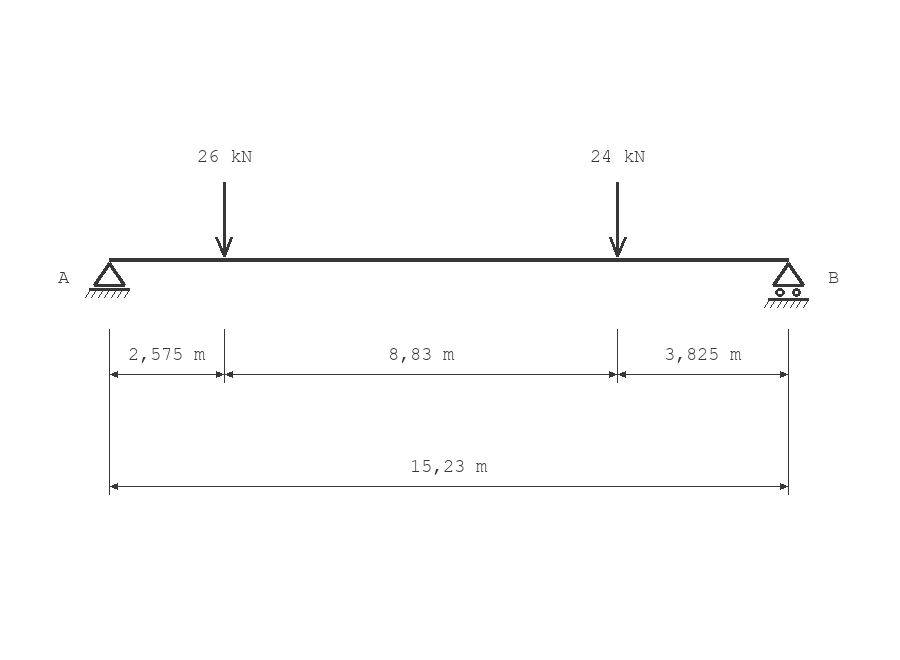pin_support: (85, 262, 130, 298)
point_load: (215, 182, 233, 257), (609, 182, 627, 257)
roller_support: (764, 262, 809, 308)
